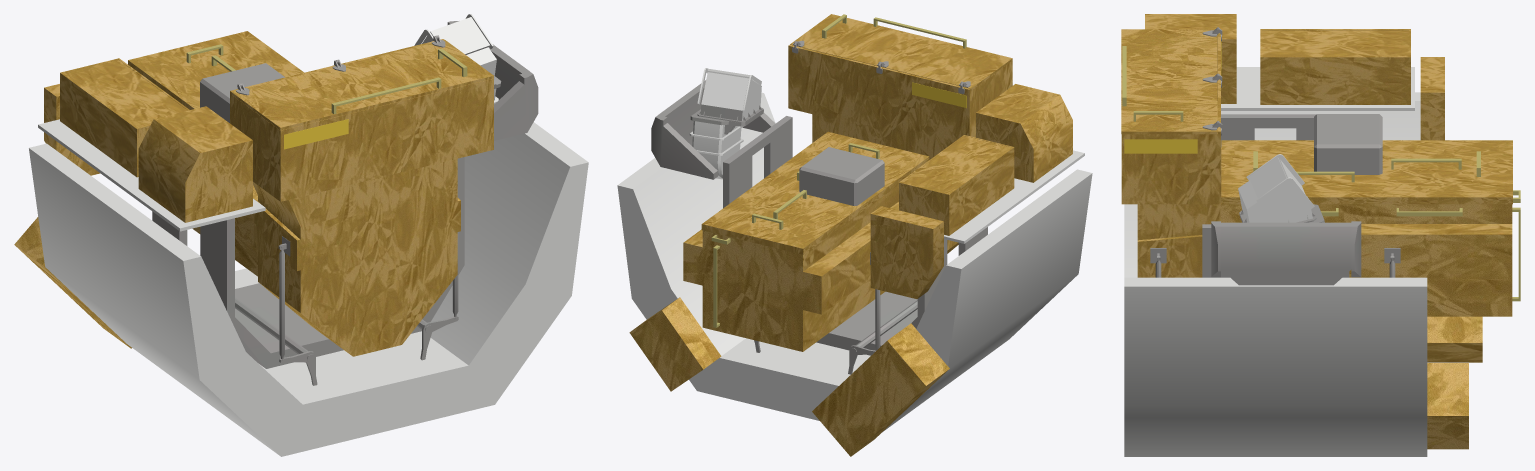
Rendered from orbital-replacement-unit.glb.
3 views of the same model, side by side, from view 1: azimuth 30°, elevation 25°; view 2: azimuth 150°, elevation 25°; view 3: azimuth 270°, elevation 25° (orthographic). The views are drawn at different scales.
Visible parts, largest first — view 1: spaceshutt; view 2: spaceshutt; view 3: spaceshutt.
Boxes of the visible parts, <box> form: spaceshutt: <box>14,14,588,456</box>; spaceshutt: <box>617,14,1092,456</box>; spaceshutt: <box>1121,14,1520,456</box>.
Size of the model in its own units: 4.5 by 3.67 by 3.92.
Materials: 4 (3 with a texture image).
